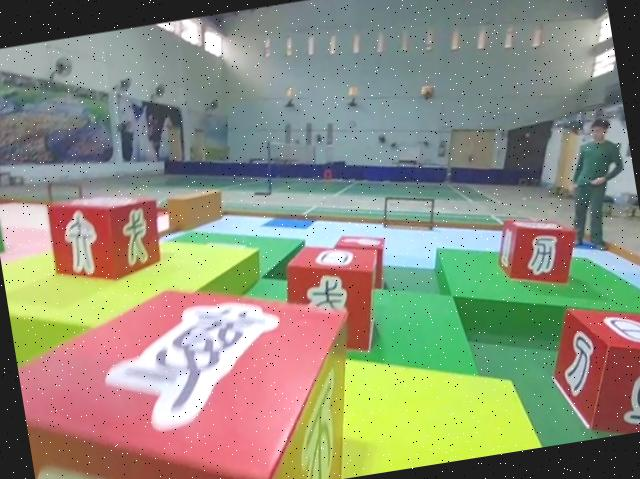R2 Fake: (7, 256, 372, 479), (277, 231, 396, 364), (537, 291, 640, 444), (41, 181, 169, 292), (491, 205, 586, 296)
